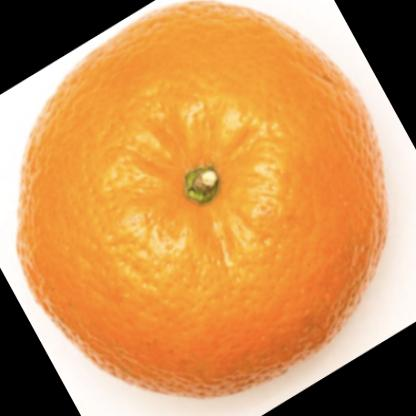fresh: (17, 2, 389, 400)
